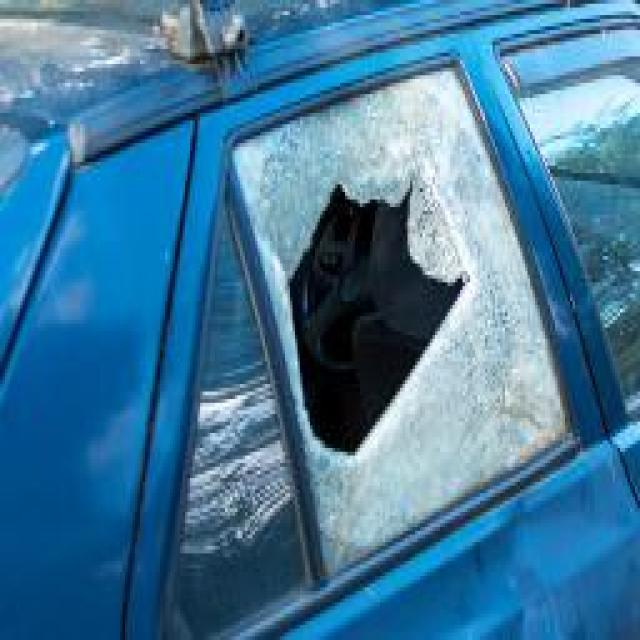Door: (242, 72, 588, 640)
